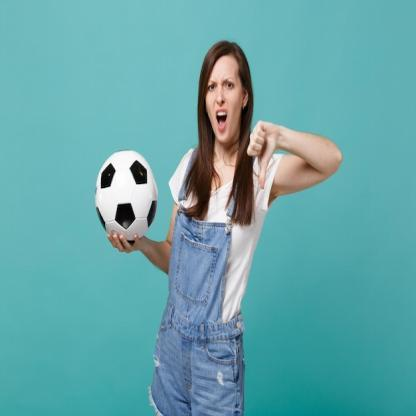thumb_down: (246, 118, 280, 192)
